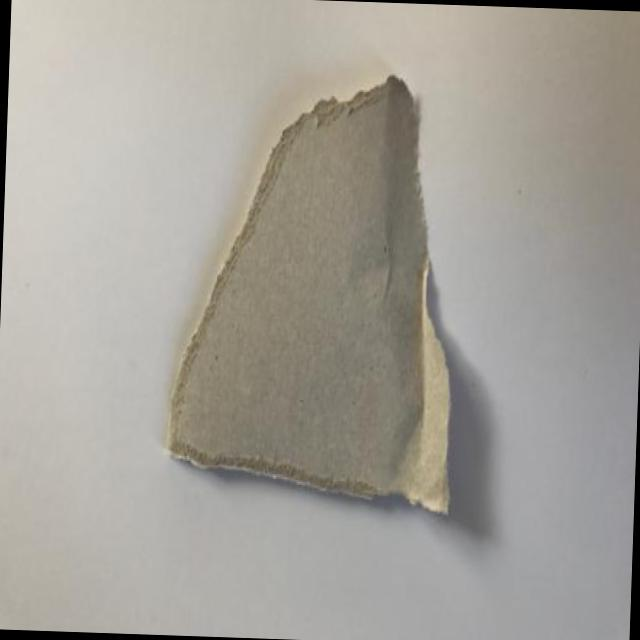paper: (179, 92, 480, 497)
